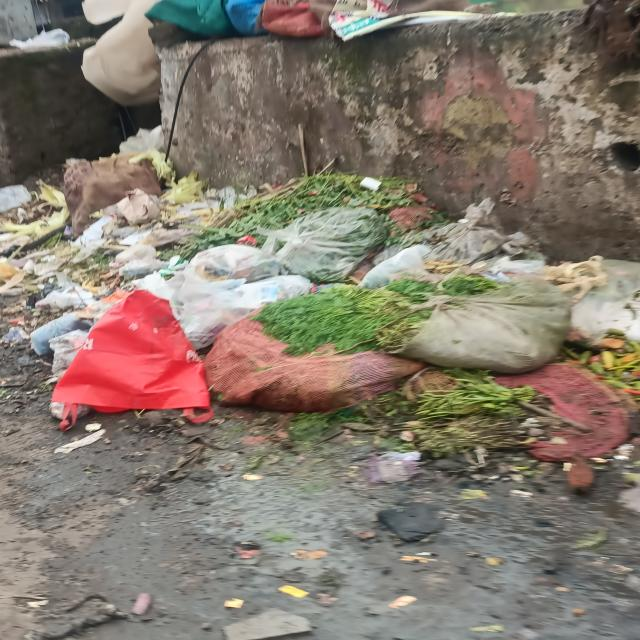garbage: (2, 166, 640, 456)
